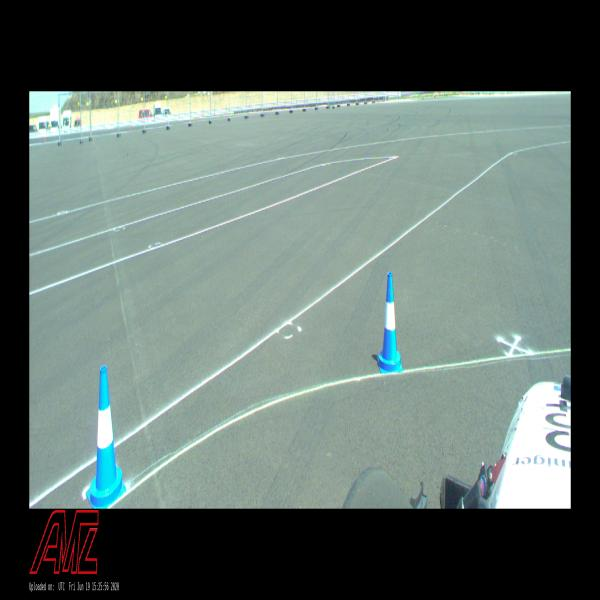blue_cone: (86, 365, 126, 508), (377, 272, 403, 374)
